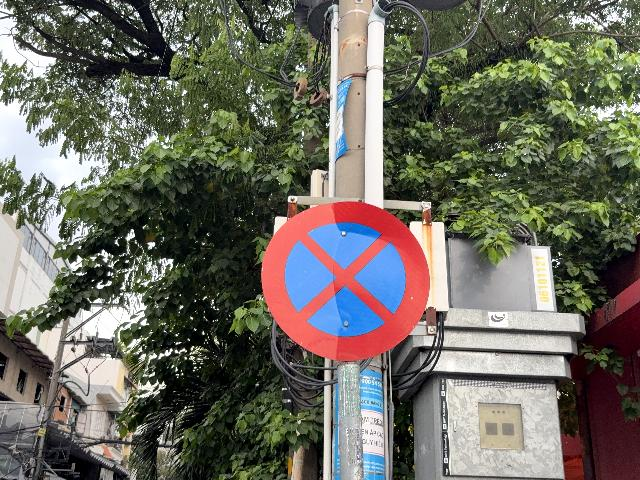cam-dung-va-do-xe: (262, 201, 431, 362)
